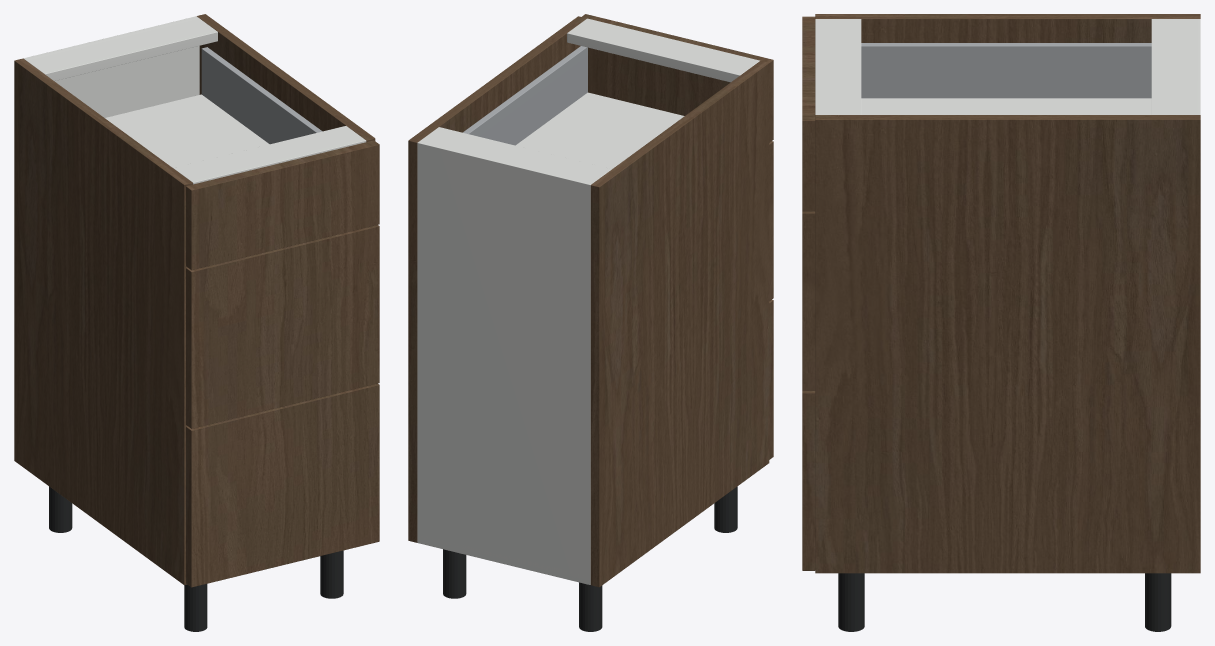
The model's file is oppein-pb-mso-3db15.glb.
The picture shows the model from 3 angles, left to right: view 1: azimuth 30°, elevation 25°; view 2: azimuth 150°, elevation 25°; view 3: azimuth 270°, elevation 25°; orthographic projection. The views are drawn at different scales.
Visible parts, largest first — view 1: Cabinet side, Drawer front, Drawer front.001, Drawer front.002, Cabinet back, Drawer floor.002, Drawer side.005, Top support rail, Cabinet side.001, Top support rail.001, Adjustable foot.001, Adjustable foot.003 (+1 smaller); view 2: Cabinet side, Cabinet back, Cabinet side.001, Drawer floor.002, Drawer front.002, Drawer side.005, Top support rail.001, Top support rail, Adjustable foot, Adjustable foot.002, Adjustable foot.001, Drawer front (+2 smaller); view 3: Cabinet side.001, Drawer side.004, Cabinet side, Drawer floor.002, Top support rail.001, Top support rail, Drawer front.002, Drawer front, Drawer front.001, Adjustable foot.002, Adjustable foot.003, Cabinet back.
Part boxes in pixels (x1,y1,x2,y2): Cabinet side: (14, 58, 192, 585); Drawer front: (186, 383, 379, 587); Drawer front.001: (186, 225, 379, 428); Drawer front.002: (186, 140, 379, 270); Cabinet back: (23, 16, 199, 117); Drawer floor.002: (105, 94, 269, 167); Drawer side.005: (201, 47, 322, 144); Top support rail: (25, 18, 217, 80); Cabinet side.001: (197, 14, 375, 141); Top support rail.001: (173, 126, 366, 184); Adjustable foot.001: (184, 584, 207, 631); Adjustable foot.003: (320, 550, 343, 598); Cabinet side: (590, 60, 769, 587); Cabinet back: (417, 140, 593, 584); Cabinet side.001: (408, 16, 586, 542); Drawer floor.002: (515, 92, 684, 168); Drawer front.002: (582, 14, 773, 142); Drawer side.005: (463, 46, 587, 145); Top support rail.001: (567, 18, 759, 82); Top support rail: (421, 127, 611, 182); Adjustable foot: (579, 582, 602, 631); Adjustable foot.002: (443, 549, 466, 598); Adjustable foot.001: (714, 486, 737, 532); Drawer front: (769, 299, 773, 459); Cabinet side.001: (815, 115, 1200, 573); Drawer side.004: (861, 43, 1151, 98); Cabinet side: (815, 14, 1200, 42); Drawer floor.002: (861, 98, 1151, 114); Top support rail.001: (815, 19, 861, 114); Top support rail: (1151, 19, 1193, 114); Drawer front.002: (802, 16, 815, 211); Drawer front: (802, 391, 815, 570); Drawer front.001: (802, 211, 815, 390); Adjustable foot.002: (1145, 573, 1171, 631); Adjustable foot.003: (838, 573, 864, 631); Cabinet back: (1193, 19, 1200, 114).
Bounding box in the file's own units: 0.381 × 0.8763 × 0.6064.
4 materials, 1 textured.
